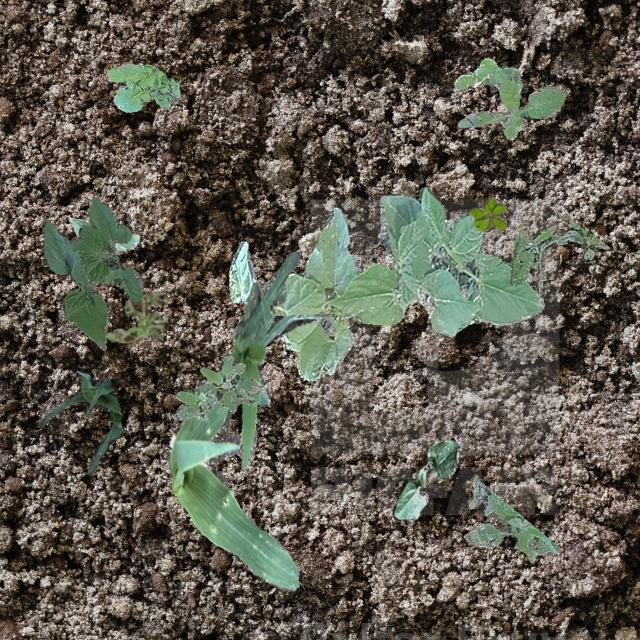crop: (228, 186, 542, 380), (168, 312, 340, 590), (42, 196, 142, 350), (228, 250, 298, 467), (39, 370, 120, 474), (392, 436, 461, 518), (68, 216, 138, 250)
weed: (452, 58, 564, 138), (466, 478, 558, 560), (508, 214, 608, 286), (172, 354, 262, 421), (104, 60, 178, 111), (106, 290, 168, 346), (468, 197, 506, 230)
